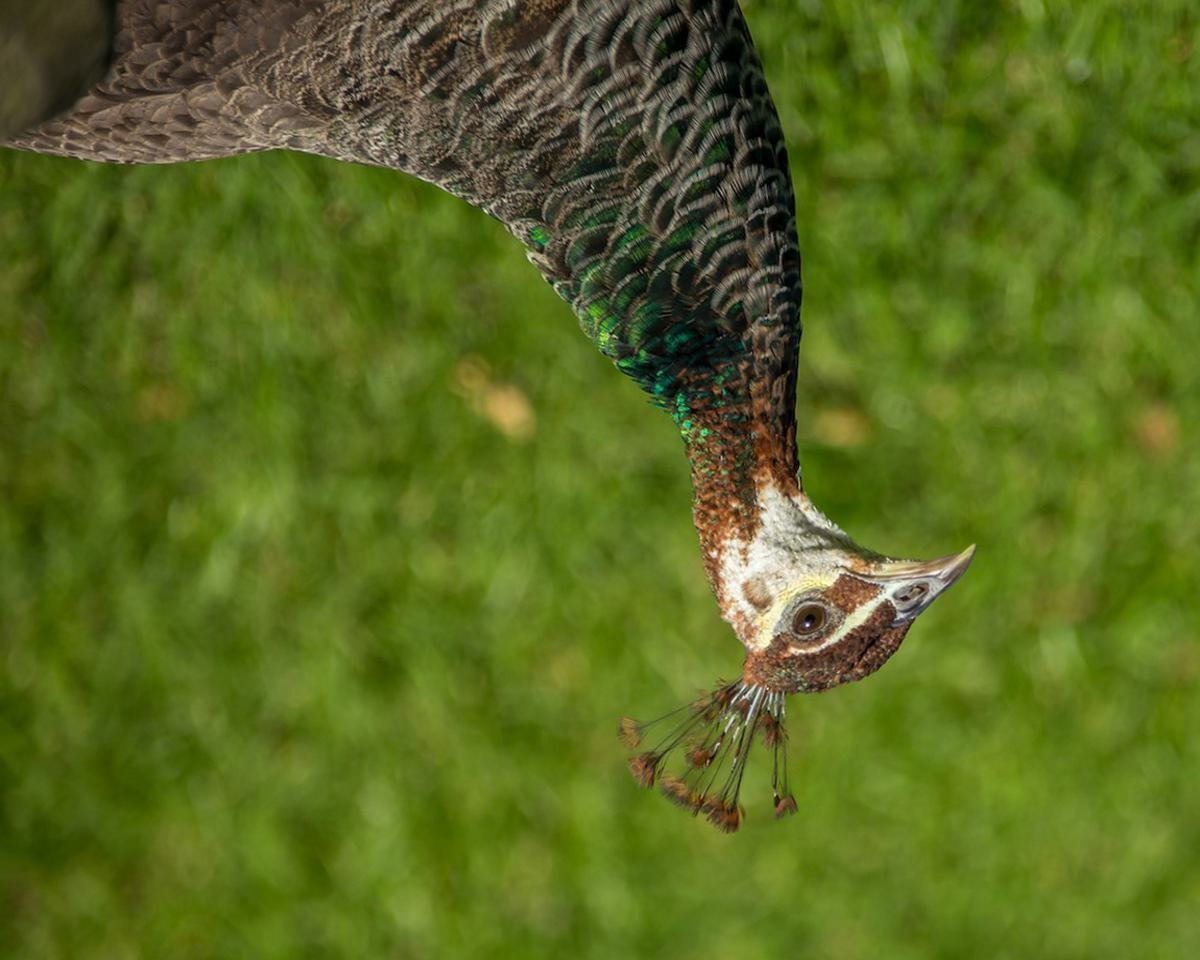peacock: (1, 1, 1051, 811)
